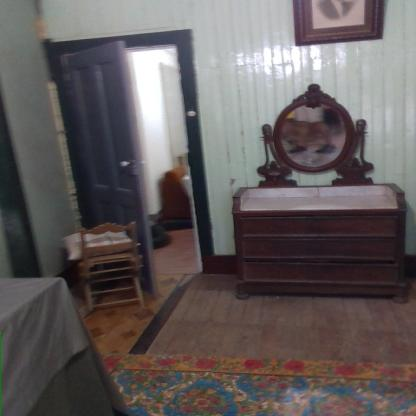semi: (42, 32, 217, 290)
